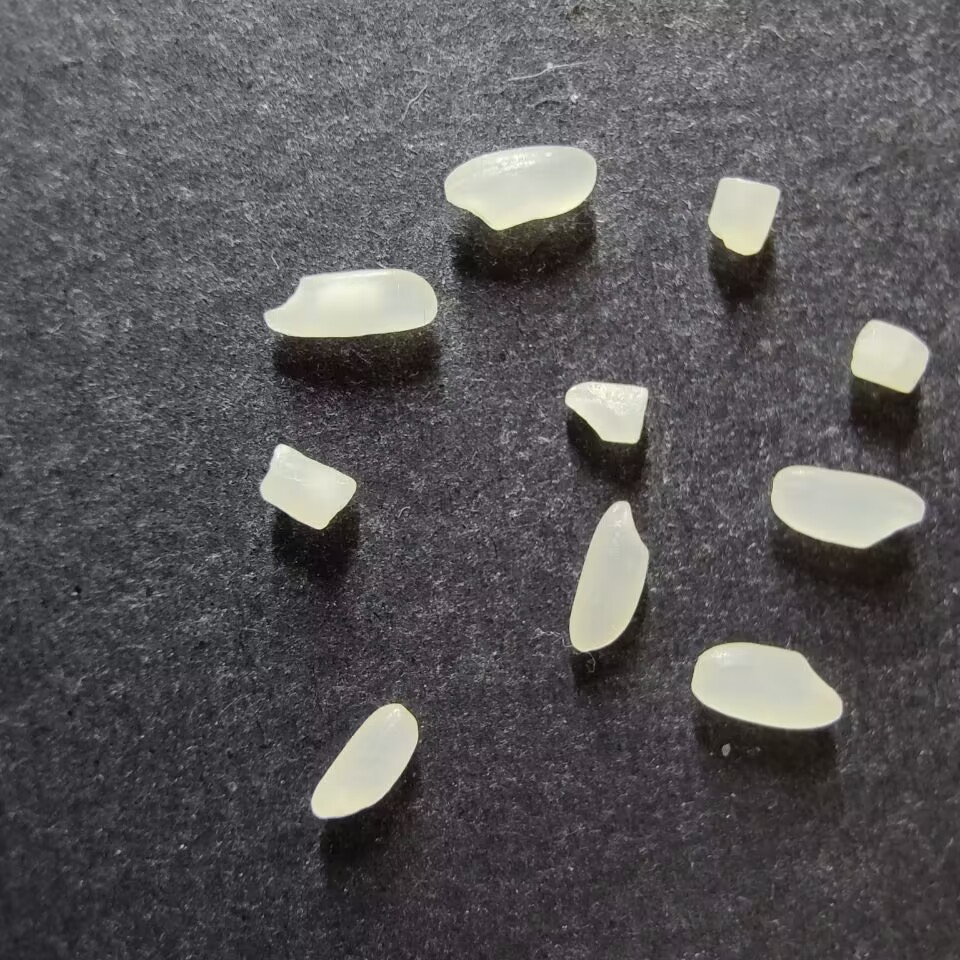broken: (258, 442, 357, 530), (849, 319, 930, 394), (707, 176, 779, 256), (564, 381, 648, 444)
rice: (691, 641, 843, 730), (443, 144, 597, 230), (770, 465, 925, 548), (310, 702, 419, 819), (568, 499, 650, 653), (263, 268, 437, 338)
